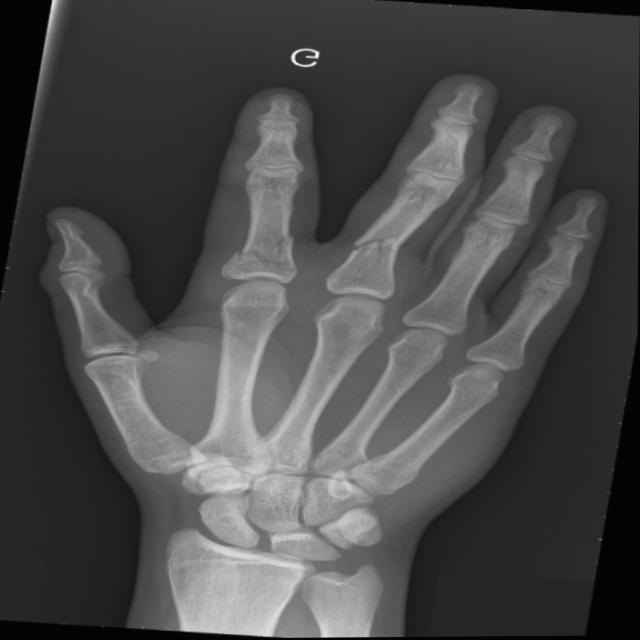Transverse Displaced: (329, 223, 436, 271)
